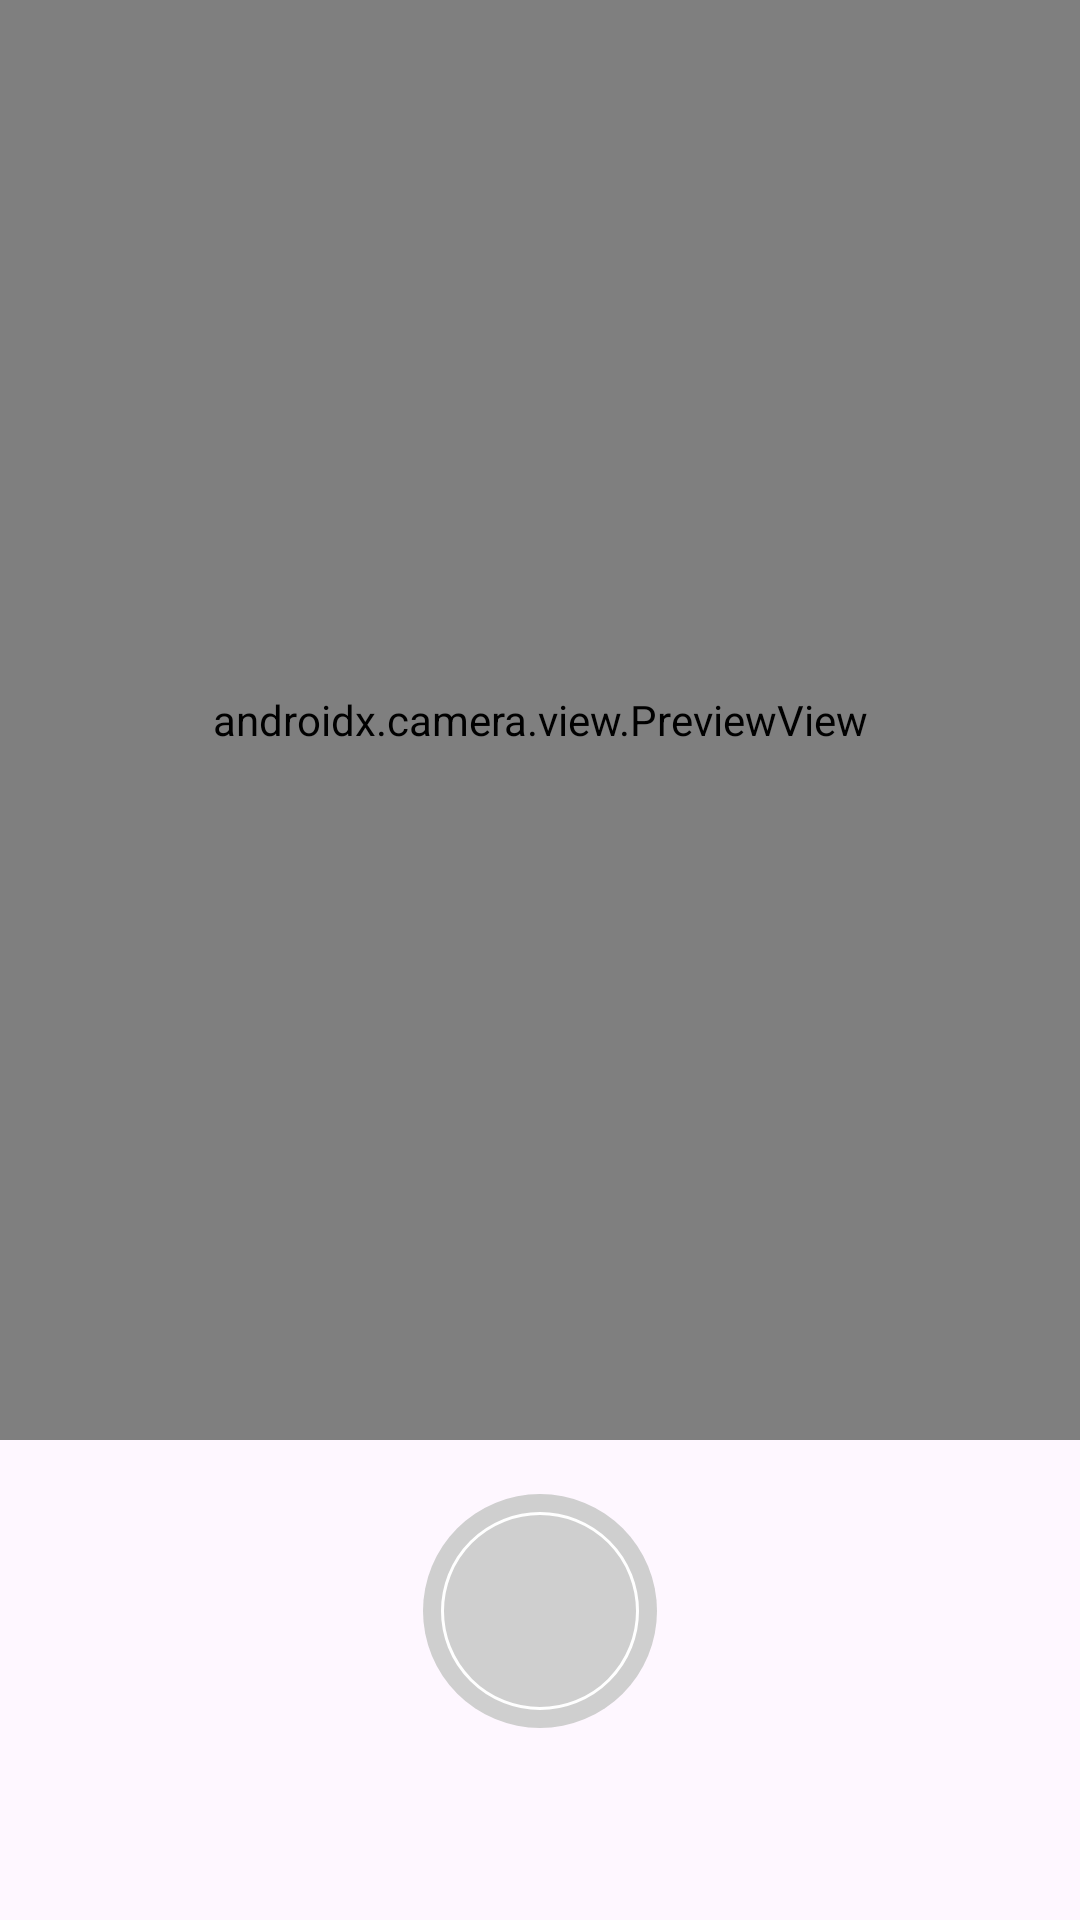

Named icons in this screenshot (1080 × 1920) and their centers, [x,y]:
cameracapture: [540,1611]
